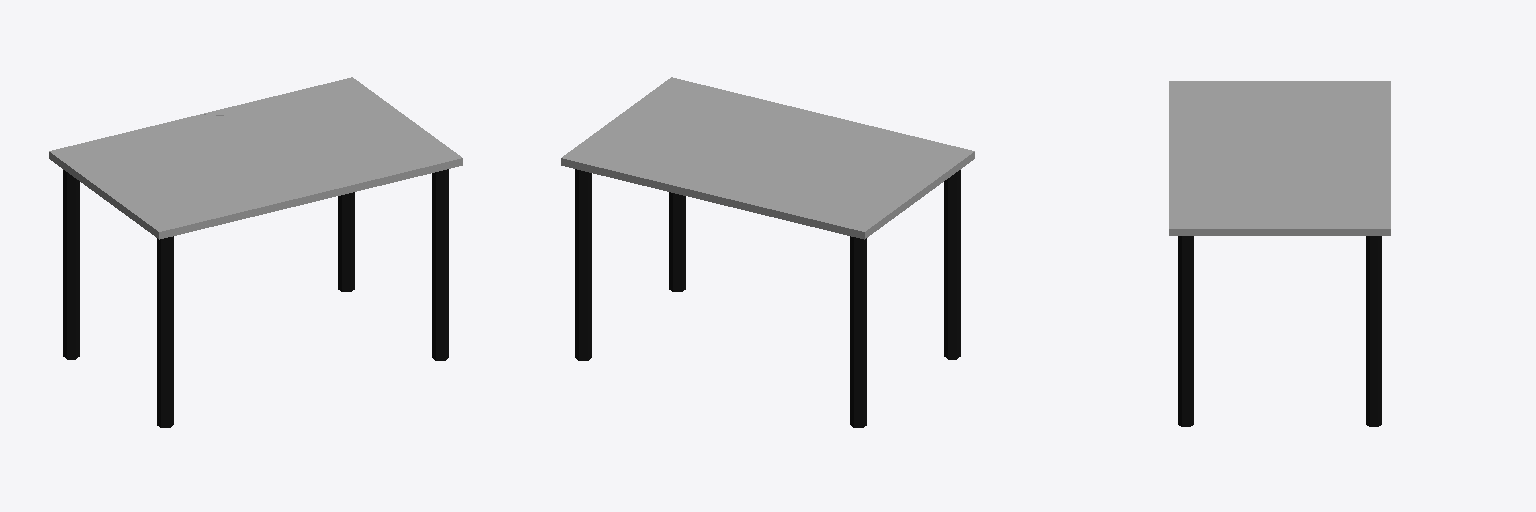
The model's file is SketchUp.013_ID124_SketchUp.013_ID124_Color_M02.obj.
The picture shows the model from 3 angles: view 1: azimuth 30°, elevation 25°; view 2: azimuth 150°, elevation 25°; view 3: azimuth 270°, elevation 25°; orthographic projection.
Visible parts, largest first — view 1: desk_SketchUp.013_ID124_SketchUp.013_ID124_Color_M02; view 2: desk_SketchUp.013_ID124_SketchUp.013_ID124_Color_M02; view 3: desk_SketchUp.013_ID124_SketchUp.013_ID124_Color_M02.
Part boxes in pixels (x1,y1,x2,y2): desk_SketchUp.013_ID124_SketchUp.013_ID124_Color_M02: (49, 77, 462, 427); desk_SketchUp.013_ID124_SketchUp.013_ID124_Color_M02: (561, 77, 974, 427); desk_SketchUp.013_ID124_SketchUp.013_ID124_Color_M02: (1169, 81, 1390, 426).
Bounding box in the file's own units: 1.08 × 0.6858 × 0.6782.